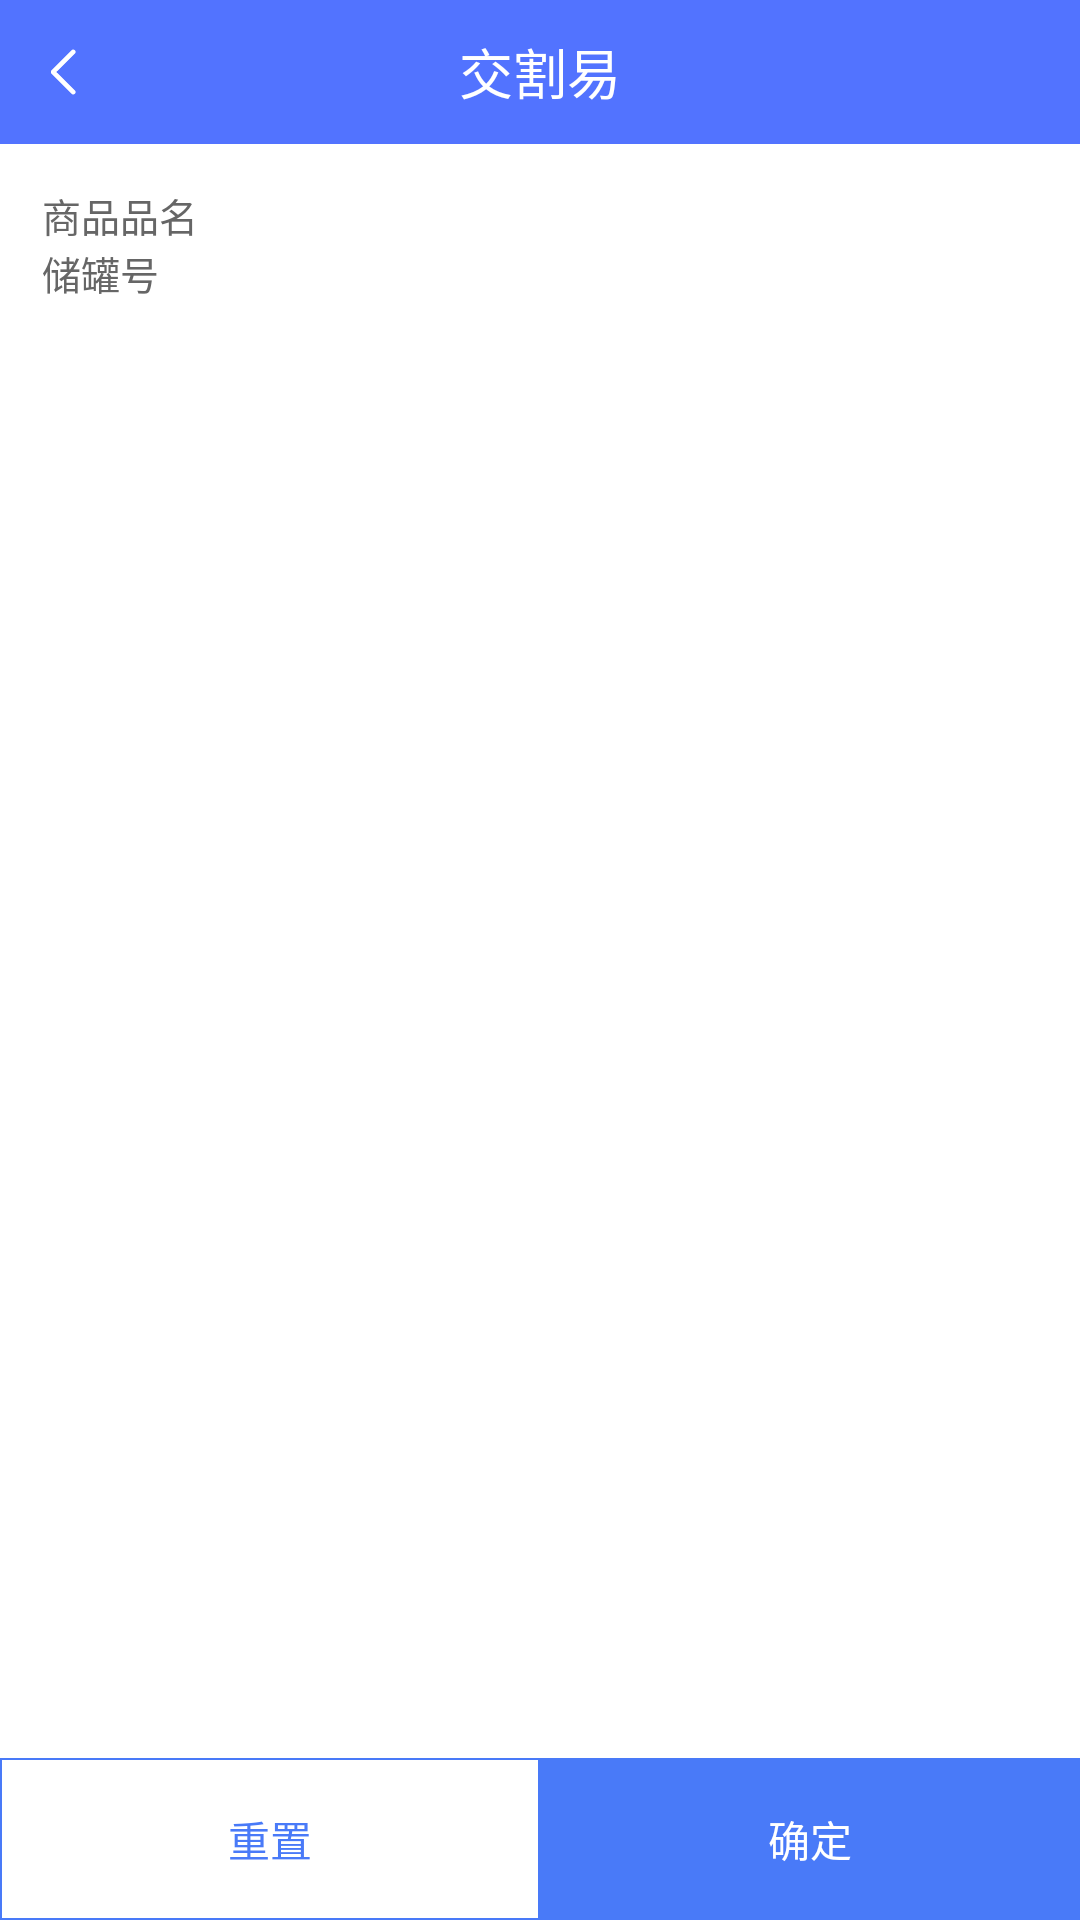

Where icons sit on this 1080×1920 app screen, as region(x1, y1, x2, y2):
left arrow: region(51, 49, 76, 95)
